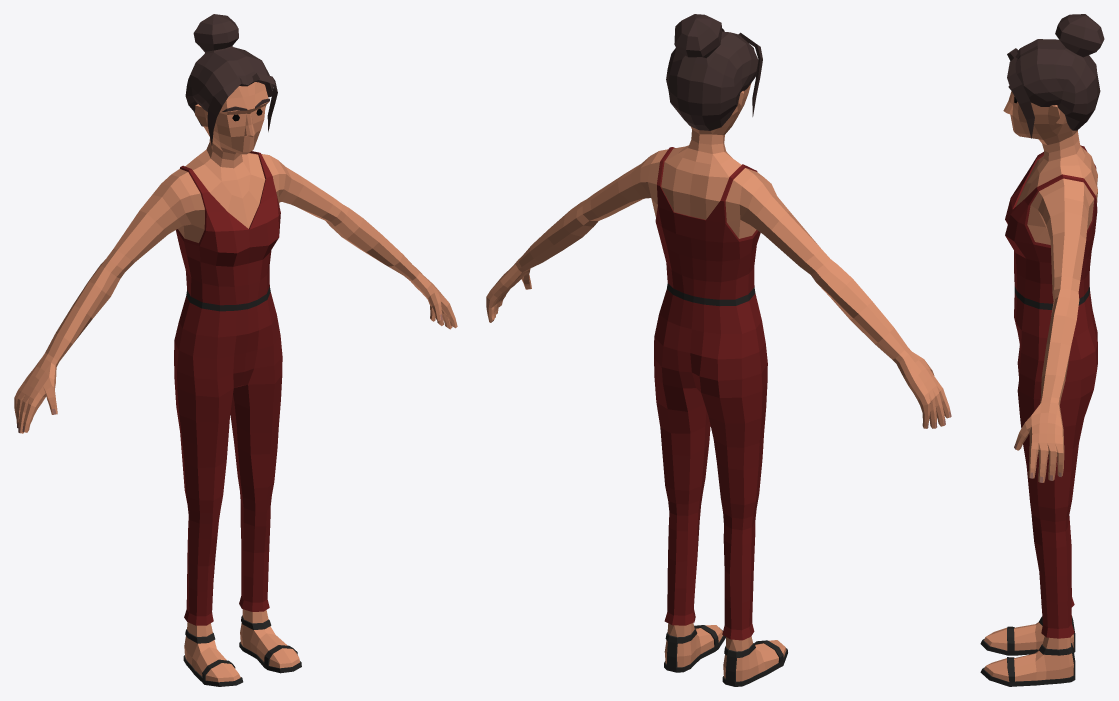
The model's file is PolyArt_Female_05.obj.
The picture shows the model from 3 angles, left to right: view 1: azimuth 30°, elevation 25°; view 2: azimuth 150°, elevation 25°; view 3: azimuth 270°, elevation 25°; orthographic projection. The views are drawn at different scales.
Visible parts, largest first — view 1: Body_05_Cube.023; view 2: Body_05_Cube.023; view 3: Body_05_Cube.023.
Boxes of the visible parts, x1,y1,x2,y2 form: Body_05_Cube.023: [14, 14, 457, 686]; Body_05_Cube.023: [486, 14, 951, 686]; Body_05_Cube.023: [980, 14, 1104, 686].
Size of the model in its own units: 1.48 by 2.06 by 0.3567.
